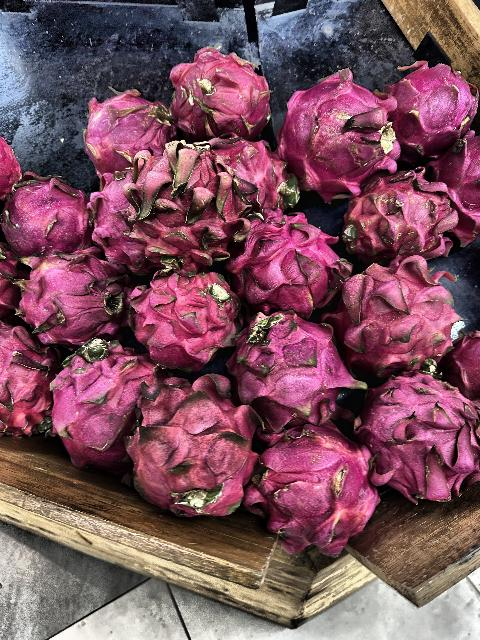buah-naga-belum-matang: (116, 140, 252, 272), (323, 256, 469, 376), (132, 379, 253, 519), (15, 250, 134, 352), (346, 166, 462, 252)
buah-naga-matang: (248, 418, 378, 558), (45, 338, 171, 472), (281, 64, 398, 196), (225, 308, 358, 424), (360, 370, 480, 498), (230, 206, 347, 306), (125, 270, 241, 370), (161, 41, 273, 139), (379, 54, 470, 152), (2, 166, 98, 256), (1, 317, 61, 438), (76, 87, 166, 167)
